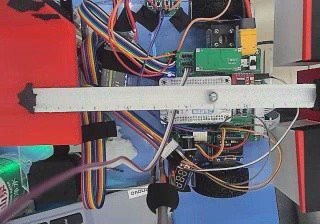ironball: (207, 91, 217, 101)
